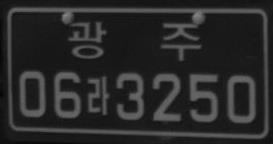0: (226, 74, 256, 124), (18, 69, 46, 117)
2: (152, 72, 181, 122)
3: (115, 71, 144, 120)
5: (188, 73, 218, 122)
6: (53, 70, 81, 119)
광주_D: (67, 21, 201, 60)
라: (87, 75, 109, 115)
